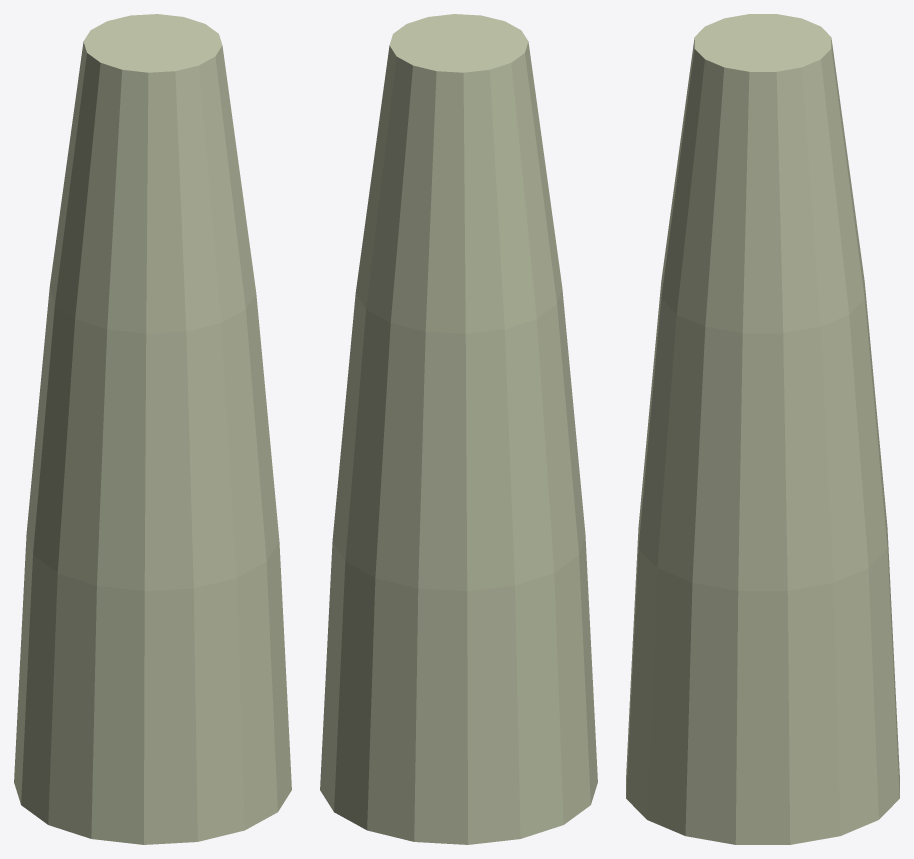
File: blue_steel_crew_s1_1_collider.obj
The picture shows the model from 3 angles, left to right: view 1: azimuth 30°, elevation 25°; view 2: azimuth 150°, elevation 25°; view 3: azimuth 270°, elevation 25°; orthographic projection.
Visible parts, largest first — view 1: collider; view 2: collider; view 3: collider.
Part boxes in pixels (x1,y1,x2,y2): collider: (14,14,291,844); collider: (320,14,597,844); collider: (626,14,899,844).
Size of the model in its own units: 1.25 by 3.75 by 1.25.
